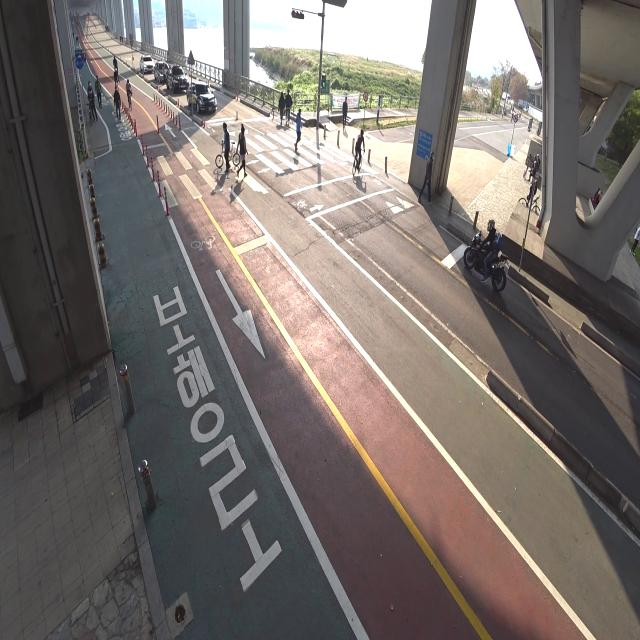Car: (186, 79, 220, 116), (166, 61, 188, 96), (152, 57, 173, 87), (138, 50, 156, 81)
Motorcycle: (463, 216, 510, 294)
